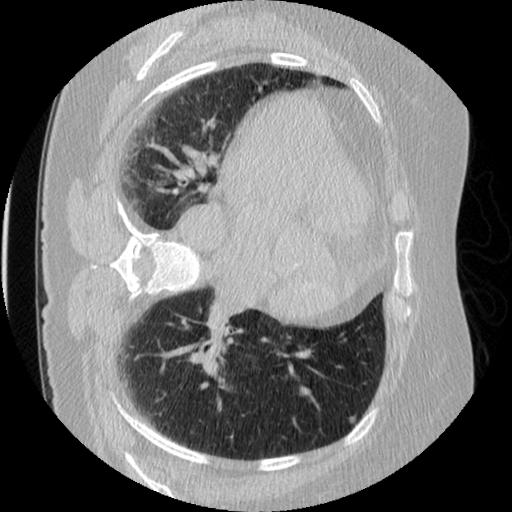nodule: (347, 416, 359, 428)
